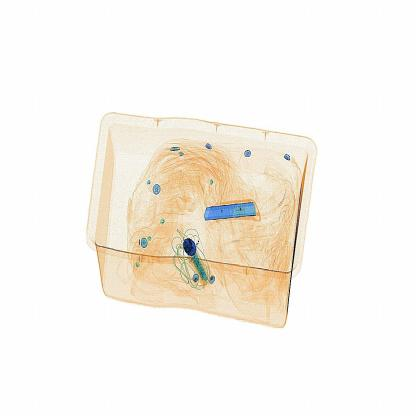pliers: (195, 192, 265, 229)
